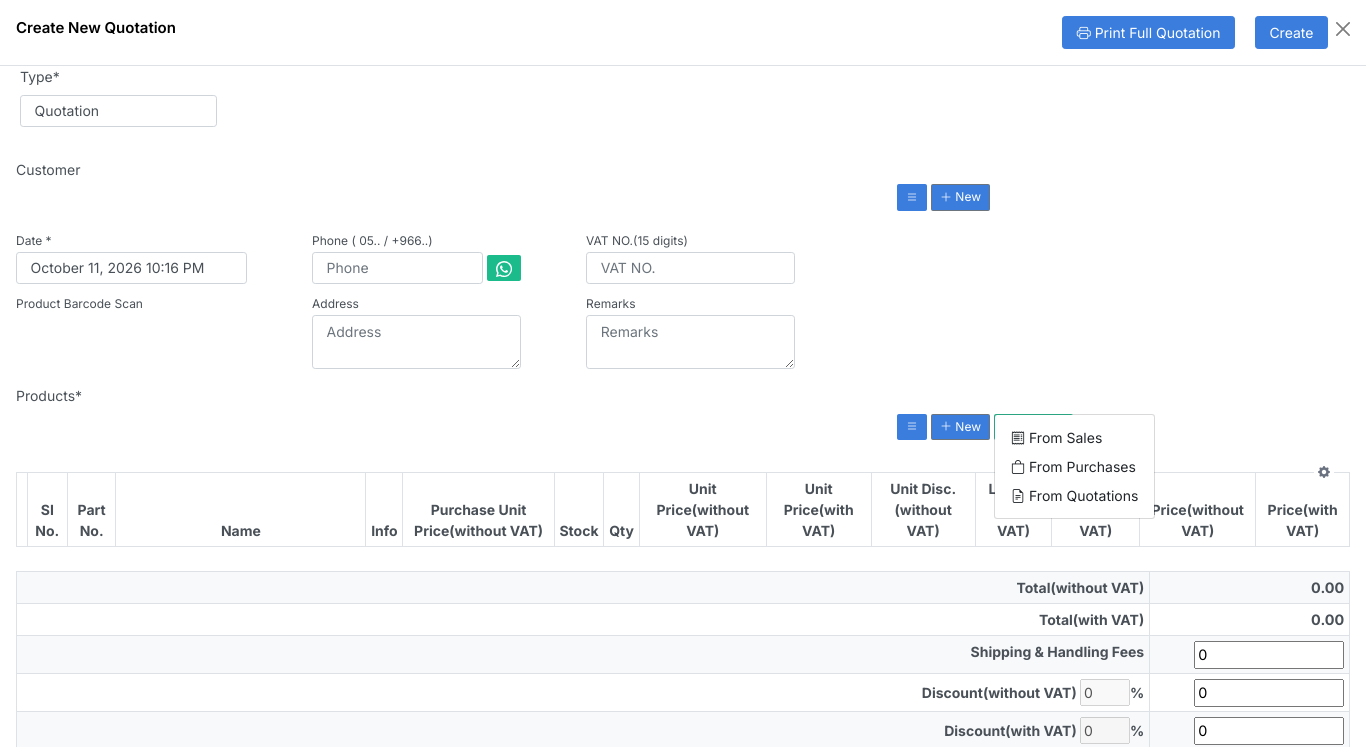
it: Quotation form: Import > From Quotations (integration) › importing the same quotation twice adds quantities instead of duplicate lines
This screenshot has width=1366, height=747.
Earlier steps of the test are not shown.
Later steps or results of the test are not shown.
Click the button with test id "import-from-quotation-btn" at {"x": 1075, "y": 495}, box [1011, 487, 1138, 504]
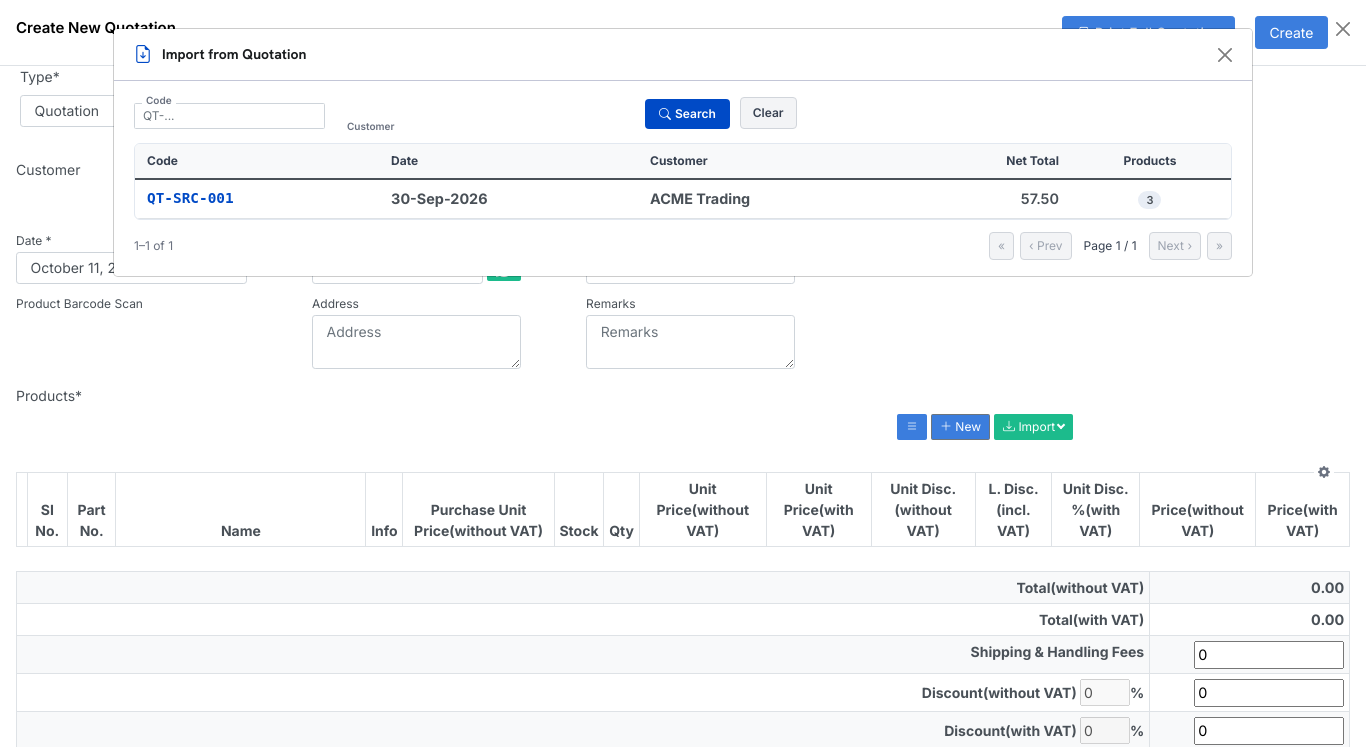
Click the text "QT-SRC-001" at {"x": 258, "y": 199}, box [135, 179, 381, 218]
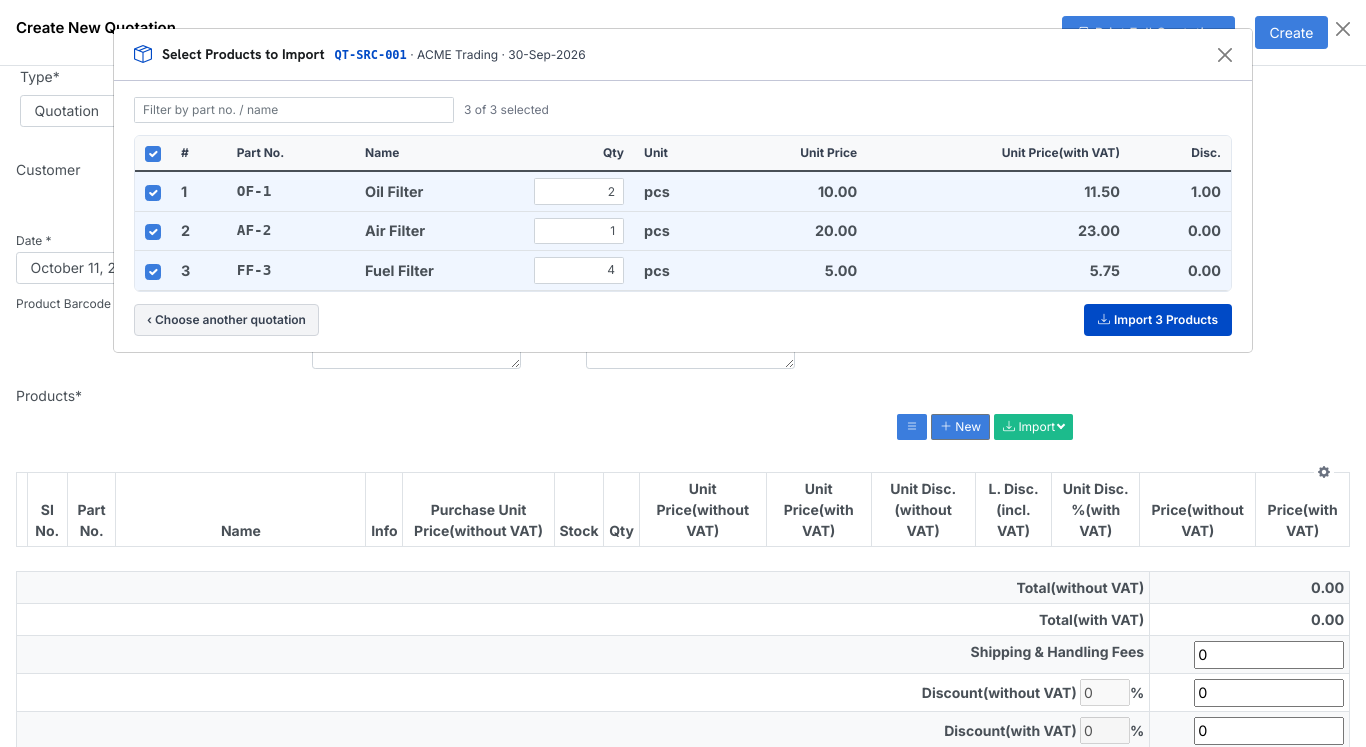
Result: the heading "Select Products to Import" is shown at [162, 46, 325, 63]
Click the button with test id "qip-import" at {"x": 1158, "y": 320}, box [1084, 304, 1232, 336]
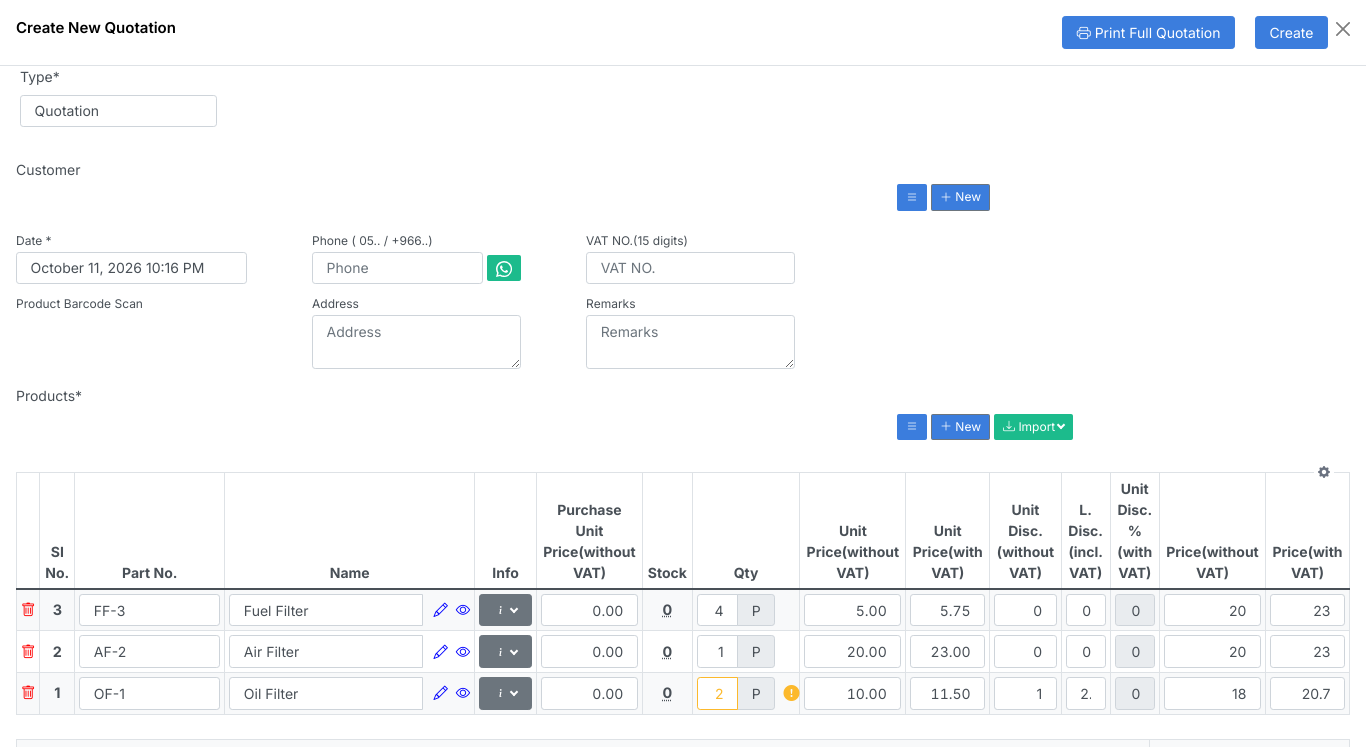
Click the button with test id "import-dropdown-btn" at {"x": 1034, "y": 427}, box [994, 414, 1073, 440]
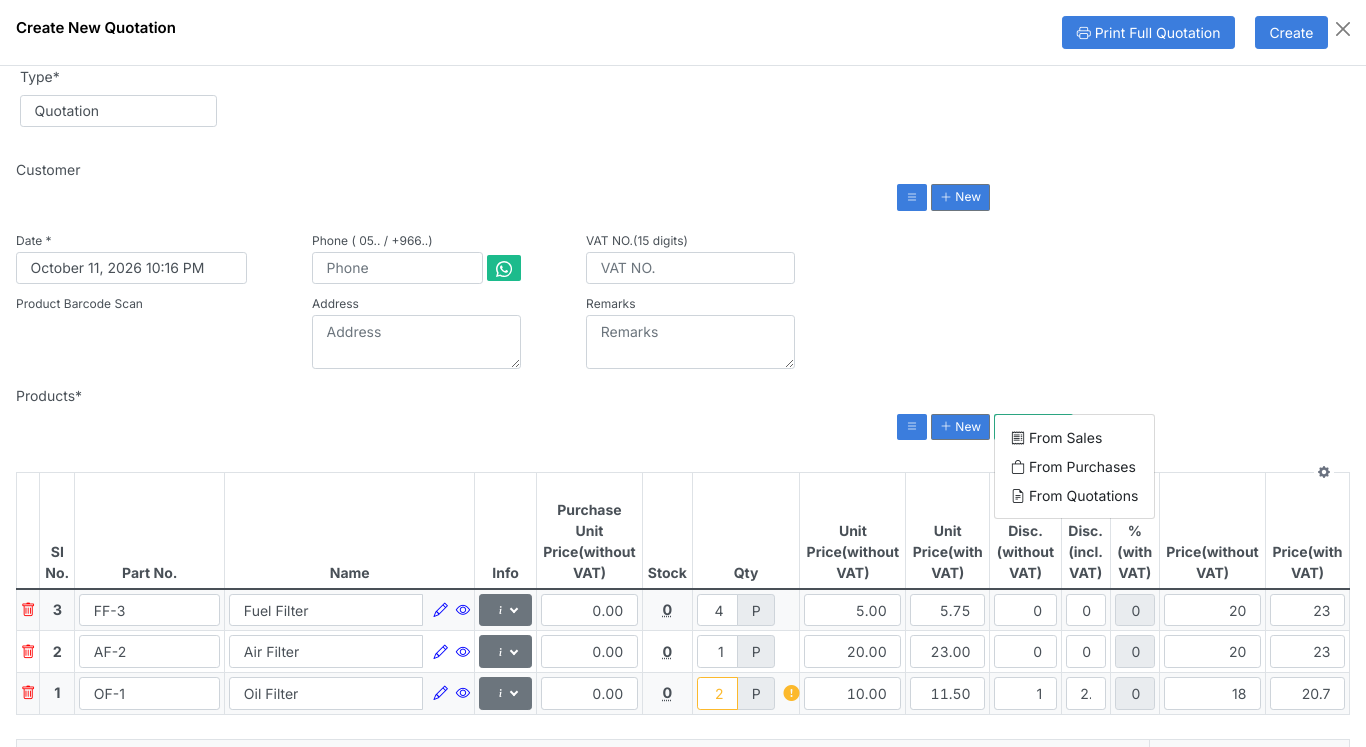
Click the button with test id "import-from-quotation-btn" at {"x": 1075, "y": 495}, box [1011, 487, 1138, 504]
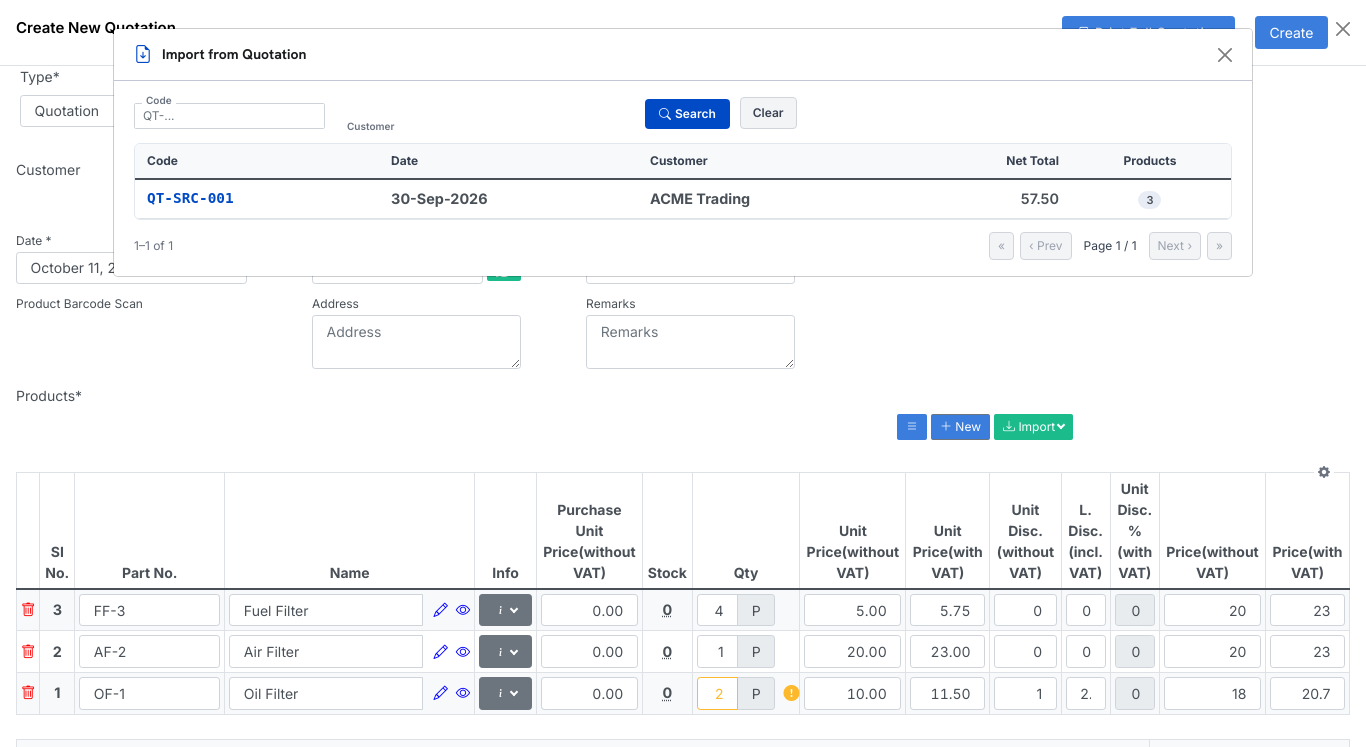
Click the text "QT-SRC-001" at {"x": 258, "y": 199}, box [135, 179, 381, 218]
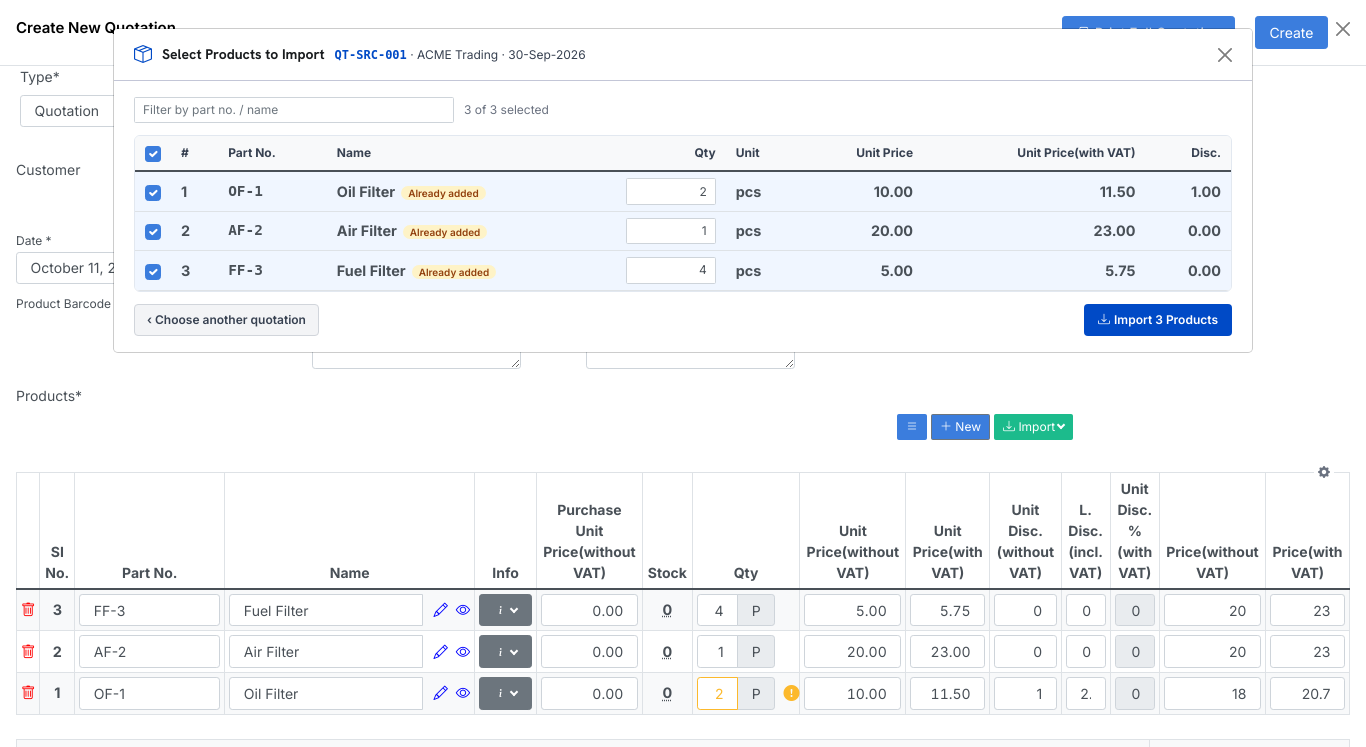
Result: the heading "Select Products to Import" is shown at [162, 46, 325, 63]
Result: the text "Already added" is shown 3 times at [401, 186, 486, 200]; [403, 225, 487, 239]; [412, 265, 496, 279]
